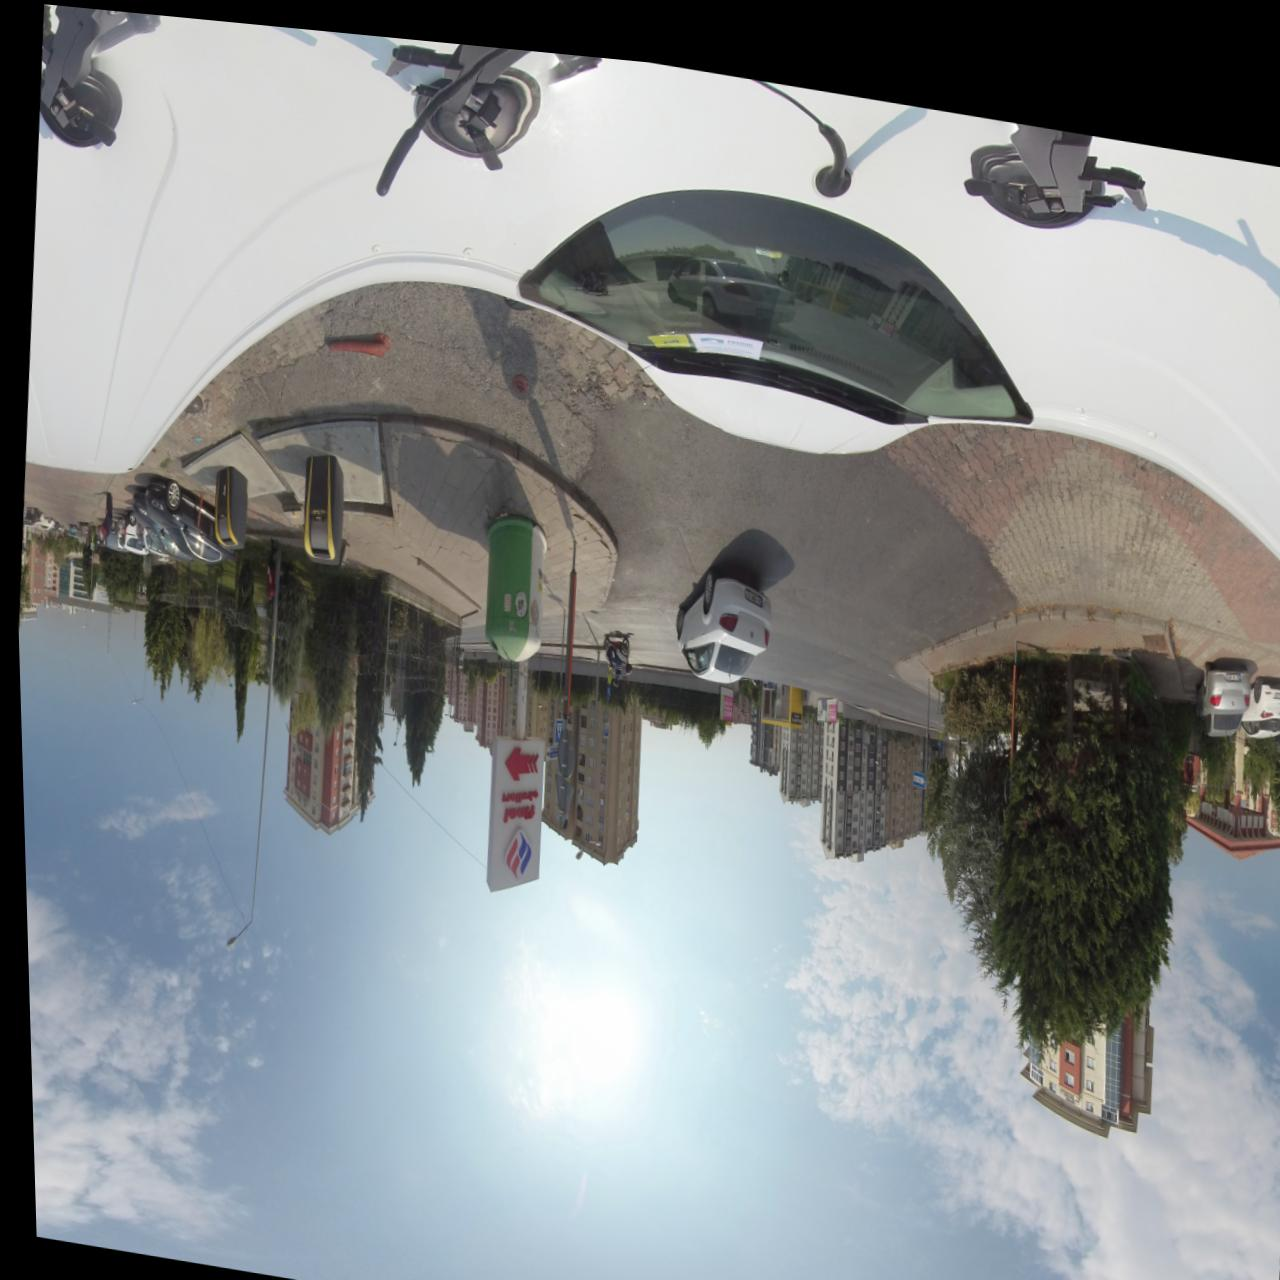SignStore: (479, 726, 539, 883)
